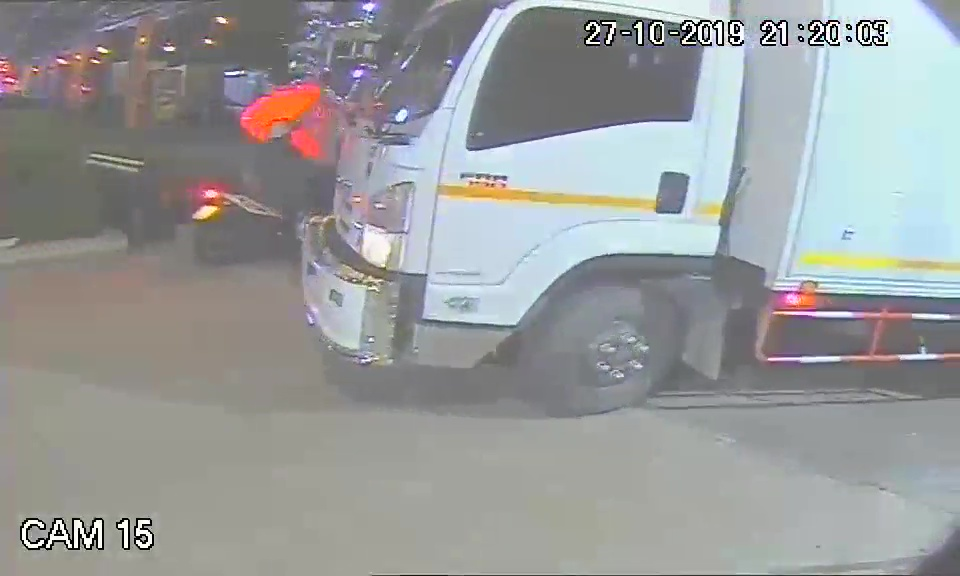truck: (303, 5, 733, 416)
